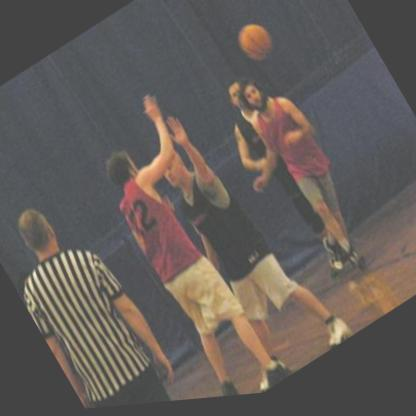basketball: (229, 17, 278, 75)
